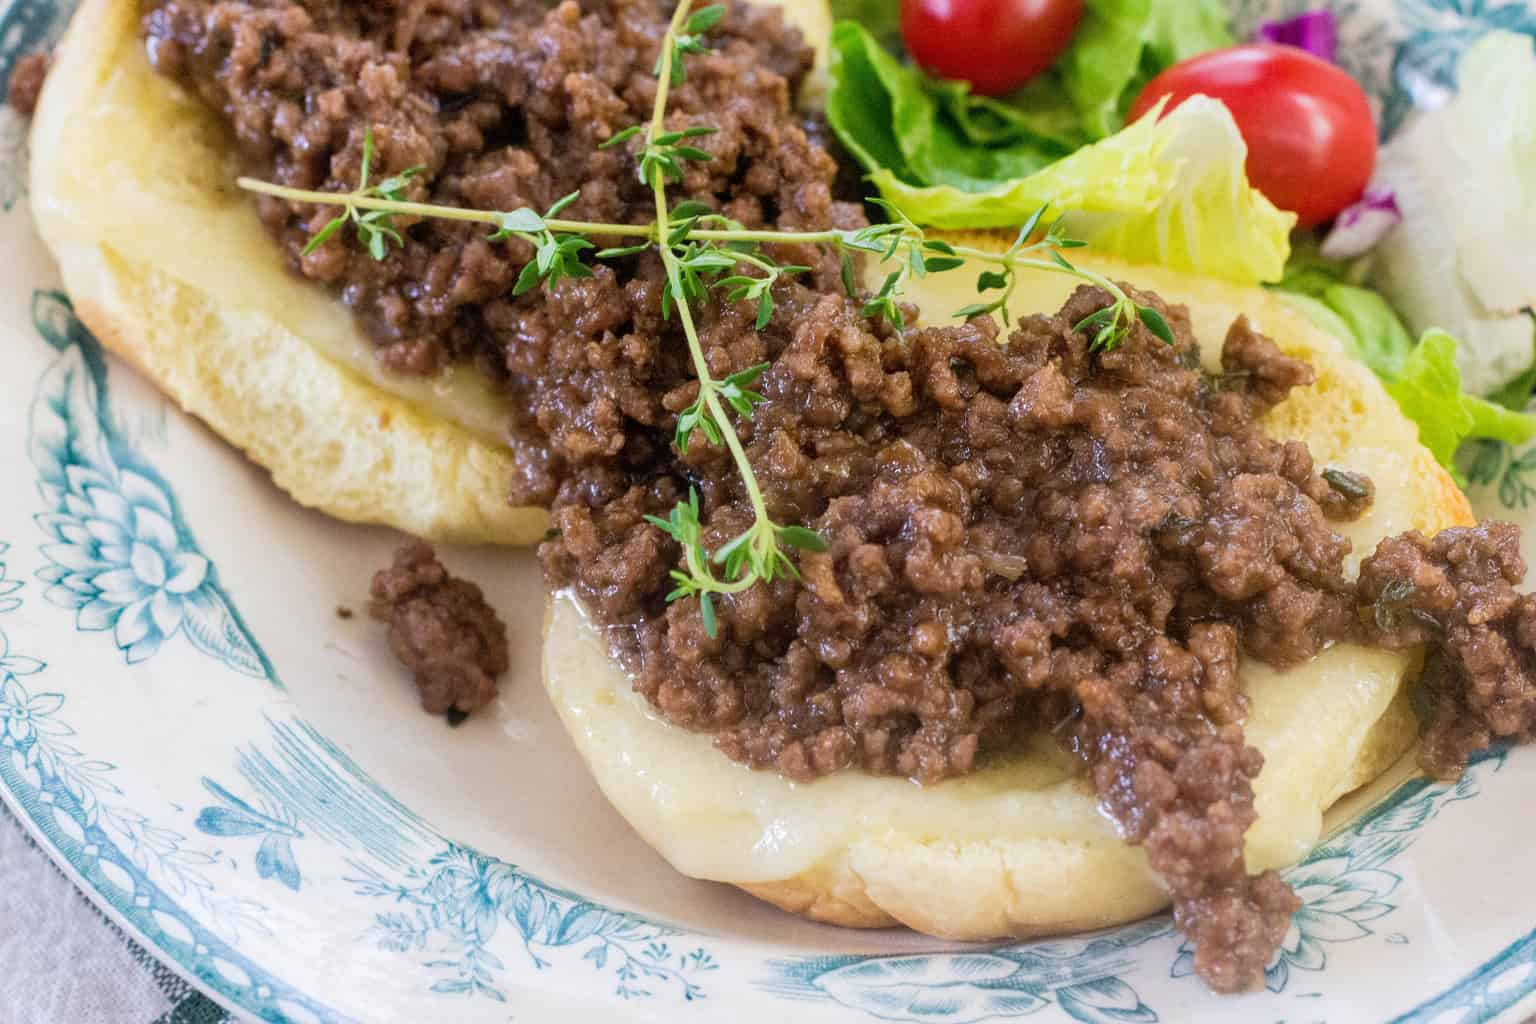hamburger_buns: (530, 589, 1272, 926), (35, 5, 416, 579)
